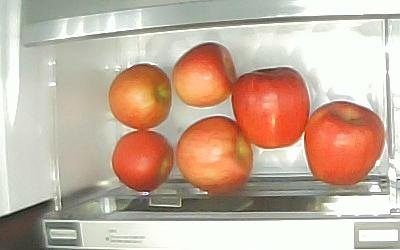apple: (303, 100, 384, 185), (231, 66, 310, 149), (177, 116, 252, 193), (172, 41, 236, 108), (108, 63, 171, 130), (111, 130, 172, 191)
